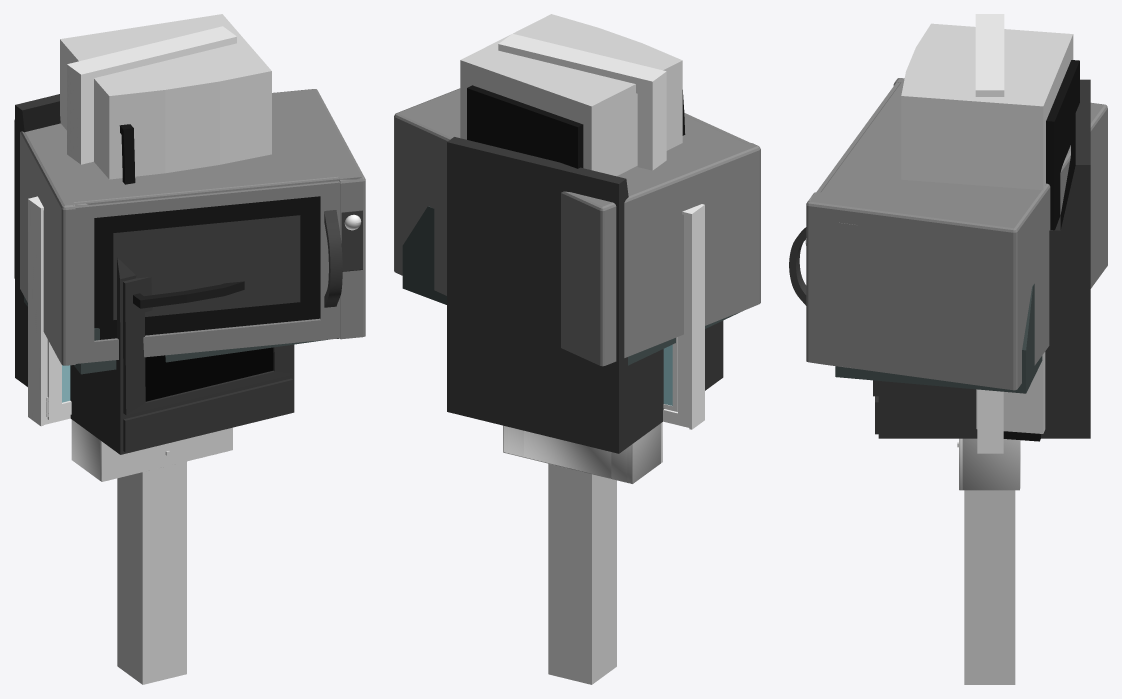
File: M_UMT_7.glb
3 renders of one model, left to right at view 1: azimuth 30°, elevation 25°; view 2: azimuth 150°, elevation 25°; view 3: azimuth 270°, elevation 25°, orthographic.
Parts seen in each view (by area): view 1: Tube001, Stove, Refrigirator, Cube, Door_frame, window_corner, M_UMT_1_F.002, Capsule001, hoodLarge_1, M_UMT_1_F.008, M_UMT_7, window_frame_sub (+1 smaller); view 2: Stove, Tube001, Refrigirator, Cube, Door_frame, window_corner, hoodLarge_1, M_UMT_2, window_frame_main, M_UMT_7, M_UMT_6, glass_2; view 3: Tube001, Refrigirator, Stove, Cube, M_UMT_7, Door_frame, hoodLarge_1, window_corner.
Part boxes in pixels (x1,y1,x2,y2): Tube001: (14, 89, 365, 365); Stove: (15, 94, 294, 454); Refrigirator: (60, 14, 271, 184); Cube: (117, 461, 186, 684); Door_frame: (67, 26, 236, 164); window_corner: (28, 196, 43, 426); M_UMT_1_F.002: (106, 428, 228, 480); Capsule001: (341, 210, 362, 271); hoodLarge_1: (24, 296, 327, 374); M_UMT_1_F.008: (160, 432, 212, 467); M_UMT_7: (71, 419, 99, 480); window_frame_sub: (46, 339, 71, 419); Stove: (447, 137, 723, 453); Tube001: (394, 88, 760, 366); Refrigirator: (460, 14, 685, 176); Cube: (548, 463, 616, 684); Door_frame: (498, 33, 666, 170); window_corner: (682, 204, 704, 429); hoodLarge_1: (402, 206, 742, 365); M_UMT_2: (523, 430, 611, 478); window_frame_main: (663, 215, 689, 427); M_UMT_7: (503, 423, 660, 483); M_UMT_6: (507, 427, 628, 482); glass_2: (663, 344, 672, 405); Tube001: (789, 78, 1107, 390); Refrigirator: (901, 23, 1079, 441); Stove: (873, 79, 1090, 438); Cube: (964, 490, 1015, 684); M_UMT_7: (962, 438, 1020, 490); Door_frame: (975, 14, 1004, 96); hoodLarge_1: (835, 283, 1042, 393); window_corner: (977, 389, 1003, 453).
Size of the model in its own units: 20.05 by 37.97 by 17.64.
Materials: 14 (2 with a texture image).
